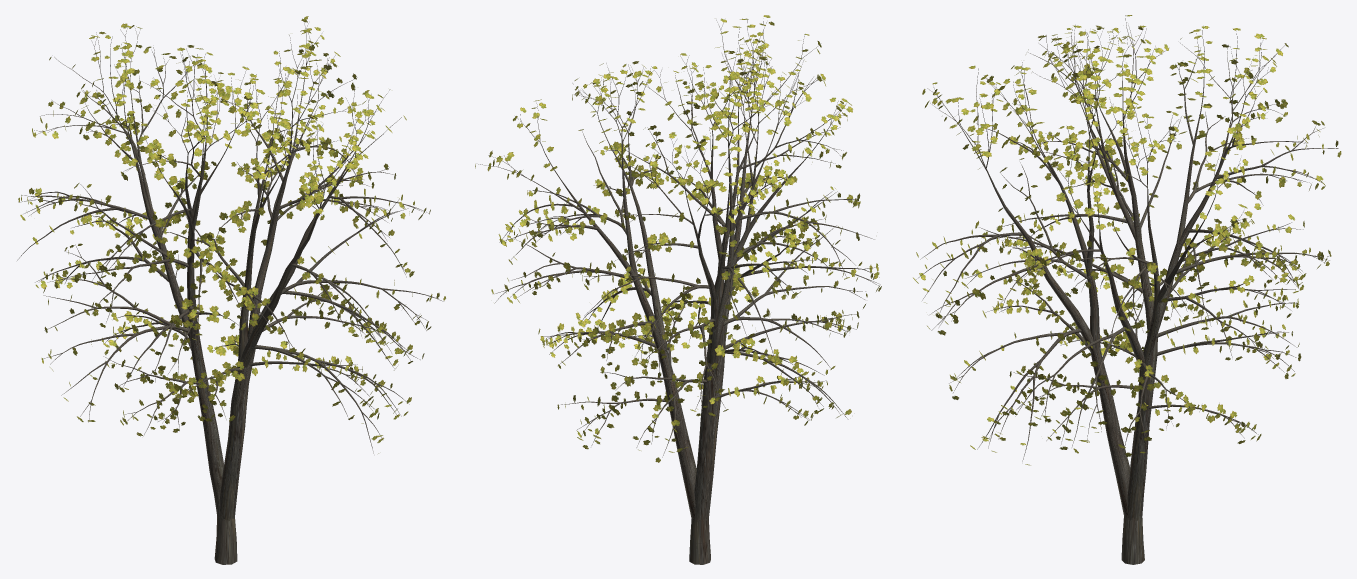
File: Amazonie_Arbre_23.fbx
The picture shows the model from 3 angles, left to right: view 1: azimuth 30°, elevation 25°; view 2: azimuth 150°, elevation 25°; view 3: azimuth 270°, elevation 25°; orthographic projection. The views are drawn at different scales.
Parts seen in each view (by area): view 1: tree, Plane.001; view 2: tree, Plane.001; view 3: tree, Plane.001.
Boxes of the visible parts, x1,y1,x2,y2 form: tree: (17,18,443,564); Plane.001: (18,16,445,453); tree: (478,20,880,564); Plane.001: (475,15,881,462); tree: (916,15,1338,564); Plane.001: (913,15,1341,465).
Bounding box in the file's own units: 1008 × 1404 × 1052.
